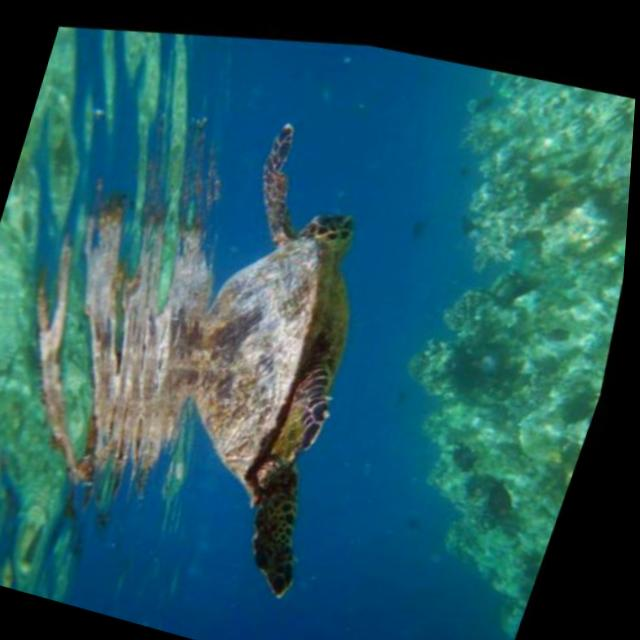Dead Coral: (276, 33, 639, 640)
